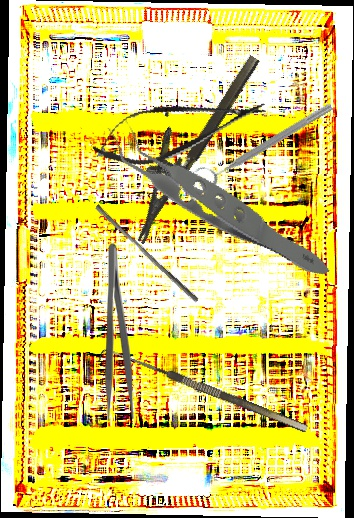Dressing Forceps: (104, 242, 135, 422)
Fixation Ring: (191, 91, 336, 193)
Hook Surgical: (97, 343, 309, 444)
Micro Scissor: (86, 80, 273, 177)
Needle Holder: (107, 38, 262, 245)
Pusher: (91, 204, 203, 303)
Tissue Forceps: (104, 64, 331, 333)
